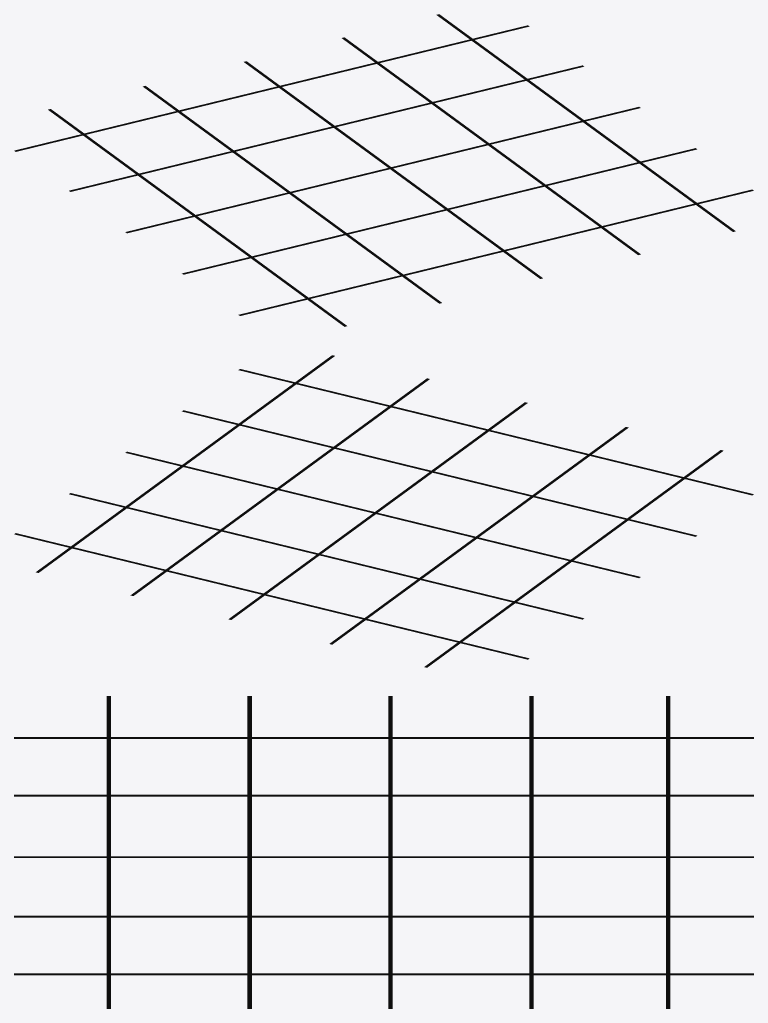
Rendered from Wires.fbx.
The picture shows the model from 3 angles, top to bottom: view 1: azimuth 30°, elevation 25°; view 2: azimuth 150°, elevation 25°; view 3: azimuth 270°, elevation 25°; orthographic projection. The views are drawn at different scales.
Visible parts, largest first — view 1: Wires; view 2: Wires; view 3: Wires.
Boxes of the visible parts, x1,y1,x2,y2 form: Wires: (14,14,753,326); Wires: (14,355,753,667); Wires: (14,696,753,1008).
Size of the model in its own units: 2100 by 0 by 2100.
